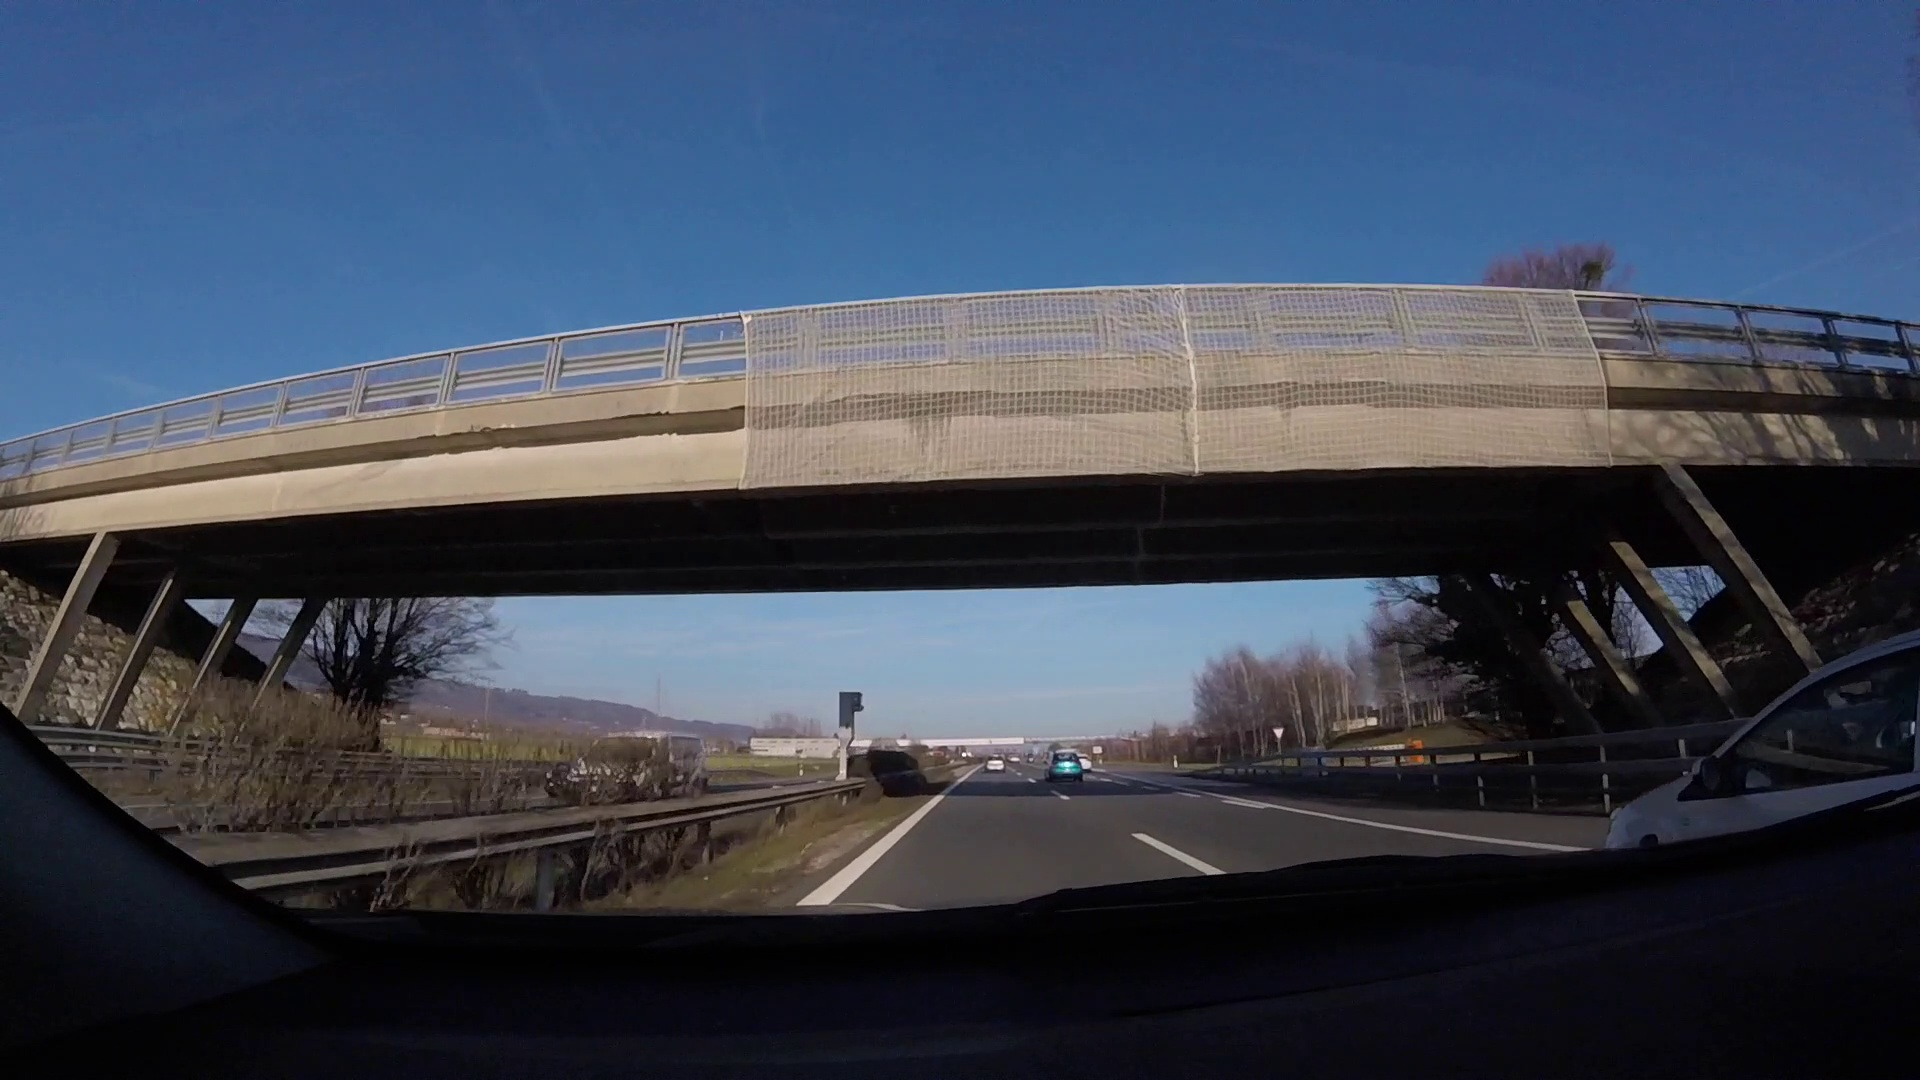radar: (836, 688, 866, 783)
